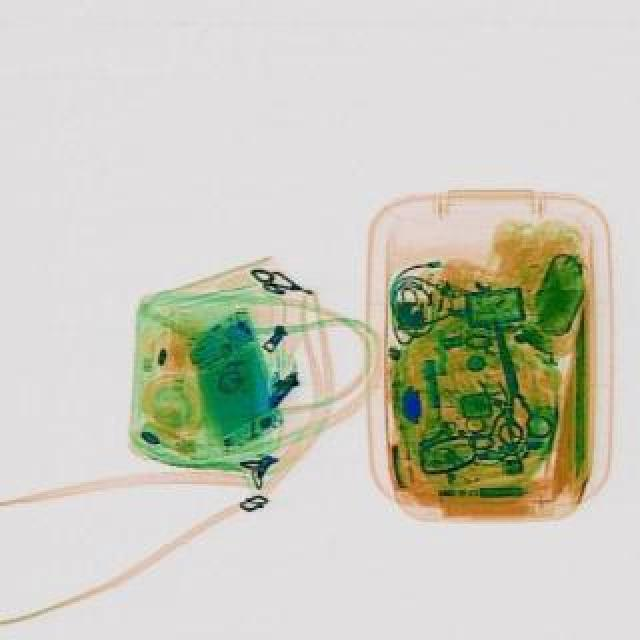pliers: (470, 312, 556, 448)
